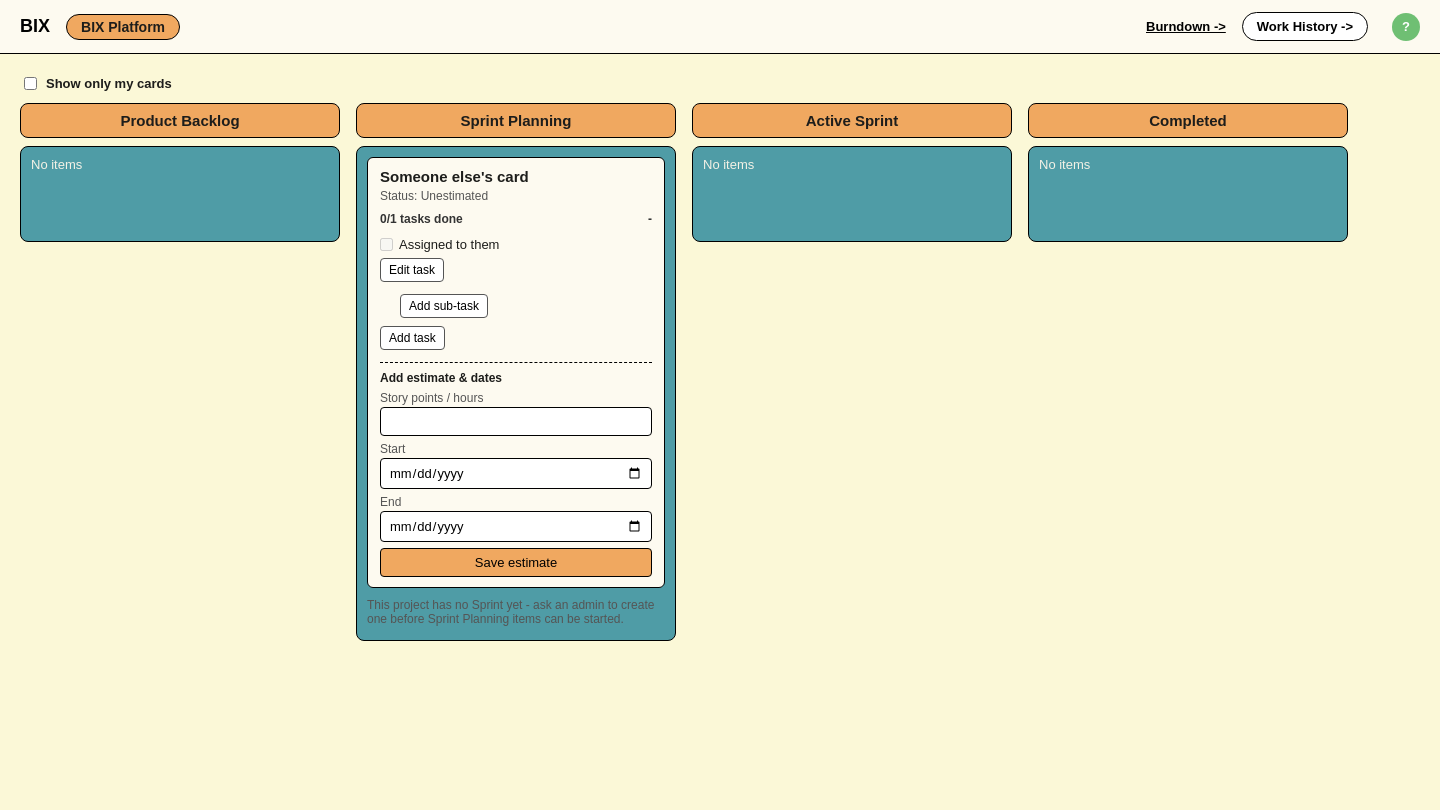
Test case: "Show only my cards" filter › shows a "no cards assigned to you" message in a column that becomes empty
Expected: the heading "Someone else's card" is shown, [380, 168, 529, 185]
Click the checkbox labelled "Show only my cards" at coordinates (30, 84), box [24, 77, 37, 90]
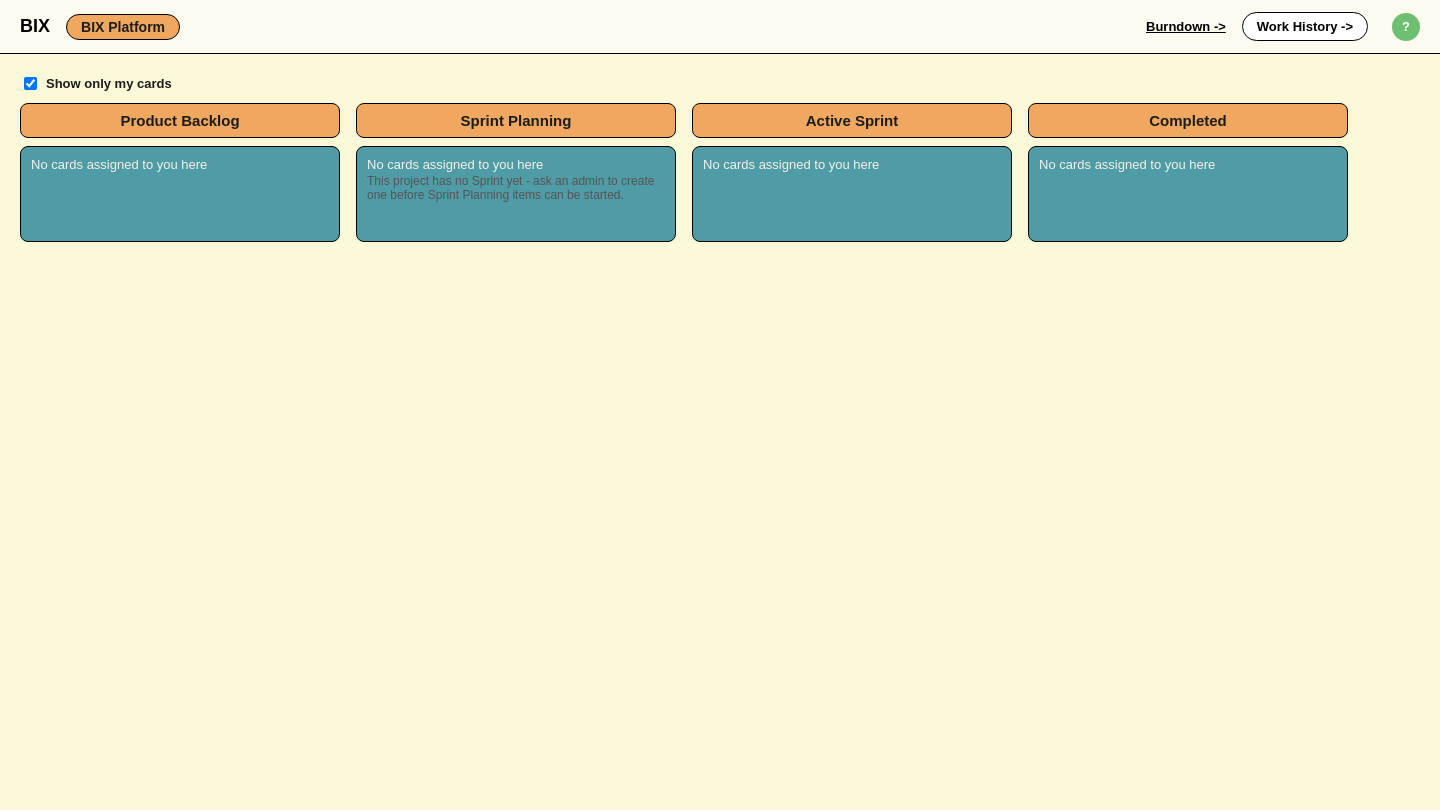
Expected: the heading "Someone else's card" is gone
Expected: the element "Sprint Planning" shows "No cards assigned to you here", [367, 157, 543, 172]
